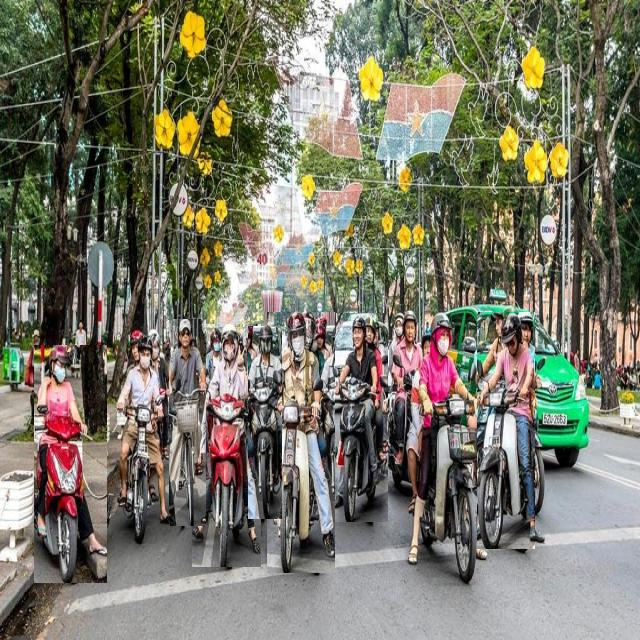bicycle: (169, 320, 206, 526)
car: (449, 304, 589, 466)
motorcycle: (408, 313, 488, 583), (268, 313, 335, 573), (35, 345, 107, 583), (192, 324, 261, 567), (478, 313, 535, 549), (332, 313, 388, 522), (118, 336, 174, 541), (248, 327, 282, 519)
